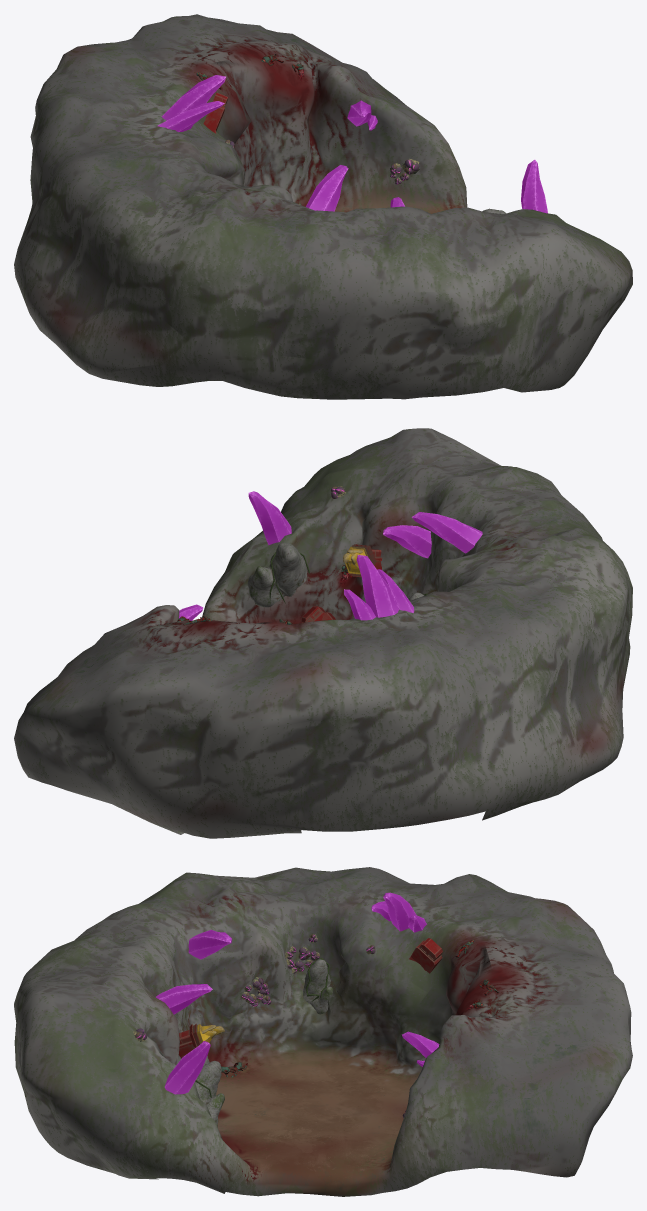
File: Cueva.fbx
The picture shows the model from 3 angles, top to bottom: view 1: azimuth 30°, elevation 25°; view 2: azimuth 150°, elevation 25°; view 3: azimuth 270°, elevation 25°; orthographic projection. The views are drawn at different scales.
Visible parts, largest first — view 1: cave_low, cristal high, cristal high.006, cristal high.001, cristal high.005; view 2: cave_low, rock_low, cristal high.006, cristal high, cristal high.001, cristal high.002, Soportorreta_ignore.002; view 3: cave_low, cristal high.001, rock_low, rock_low.001, cristal high.002, cristal high, Soportorreta_ignore.002, cristal high.006, Soportorreta_ignore.003, cristal high.004.
Boxes of the visible parts, box(x1,y1,x2,y2) form: cave_low: box(14, 14, 632, 399); cristal high: box(306, 165, 348, 211); cristal high.006: box(161, 75, 225, 130); cristal high.001: box(521, 159, 547, 213); cristal high.005: box(157, 101, 224, 132); cave_low: box(14, 428, 632, 838); rock_low: box(247, 543, 307, 607); cristal high.006: box(356, 555, 398, 617); cristal high: box(412, 512, 482, 553); cristal high.001: box(248, 491, 291, 545); cristal high.002: box(383, 525, 431, 558); Soportorreta_ignore.002: box(343, 544, 382, 577); cave_low: box(14, 867, 632, 1196); cristal high.001: box(164, 1041, 210, 1094); rock_low: box(194, 1060, 224, 1127); rock_low.001: box(303, 959, 332, 1014); cristal high.002: box(156, 984, 212, 1014); cristal high: box(188, 929, 231, 959); Soportorreta_ignore.002: box(178, 1023, 224, 1058); cristal high.006: box(383, 892, 416, 931); Soportorreta_ignore.003: box(409, 938, 442, 973); cristal high.004: box(402, 1031, 439, 1057).
Size of the model in its own units: 516 by 241 by 672.
10 materials, 10 textured.
